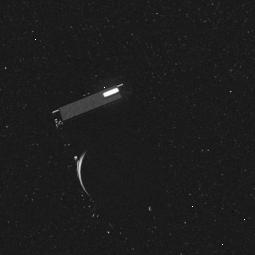proba_3_csc: (41, 80, 173, 231)
